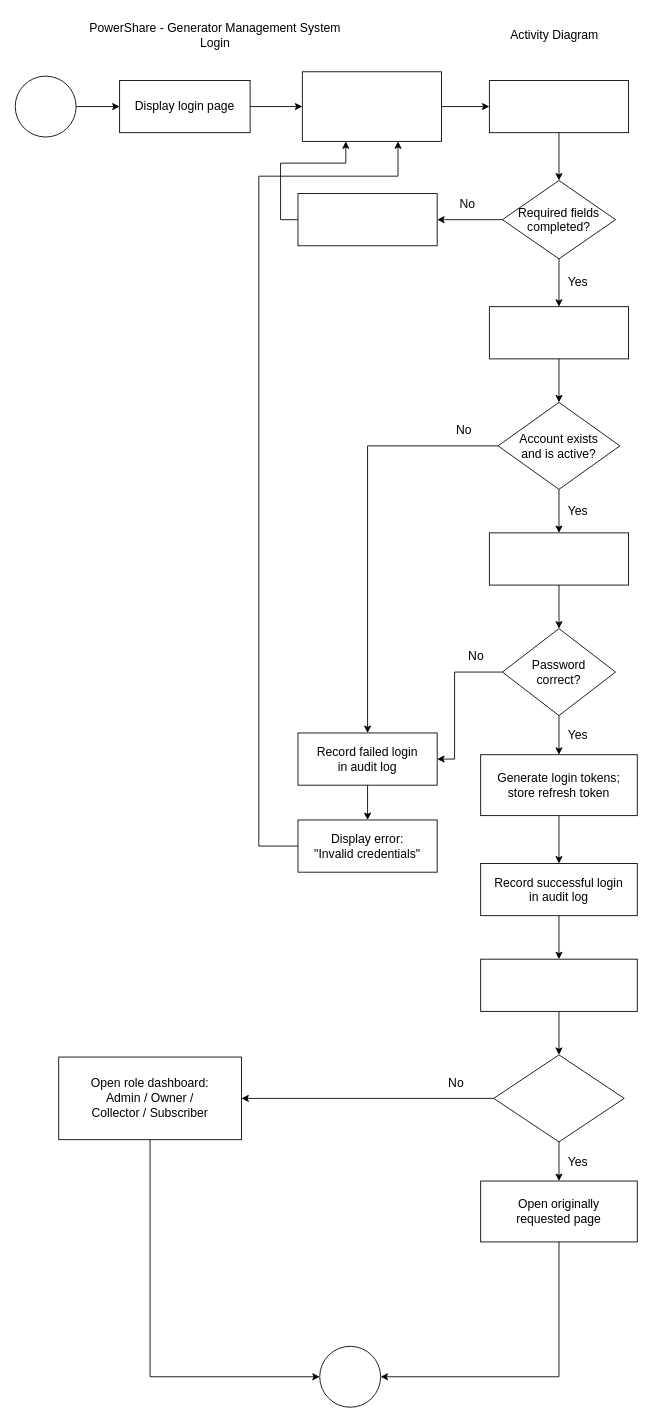
This 653x1422 diagram has some shape labels left out. The shapes that lost their labels are listed below. From the top down, each one's box as (x1, y1, x2, y2) in pixels, then its label:
(14, 75, 76, 137): Start
(301, 71, 442, 141): Enter username, email or phone, and password
(489, 80, 629, 133): Click Sign In
(297, 193, 437, 246): Show required-field validation prompt
(489, 306, 629, 359): Find user account
(489, 532, 629, 585): Verify password
(480, 958, 637, 1011): Establish authenticated user session
(493, 1054, 624, 1142): Requested page available?
(319, 1345, 381, 1407): End
